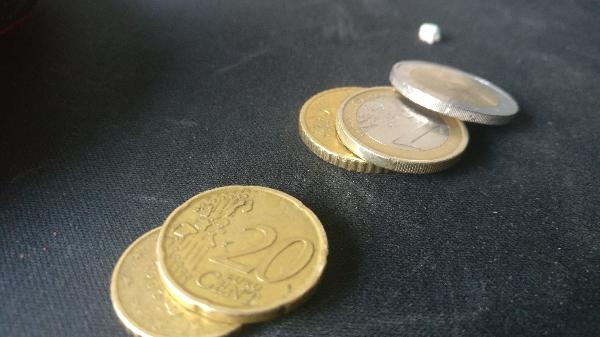Fifty Cent: (293, 80, 403, 175)
One Euro: (339, 86, 474, 175)
Ten Cent: (102, 229, 273, 336)
Twenty Cent: (155, 181, 335, 317)
Two Euro: (390, 55, 519, 129)
